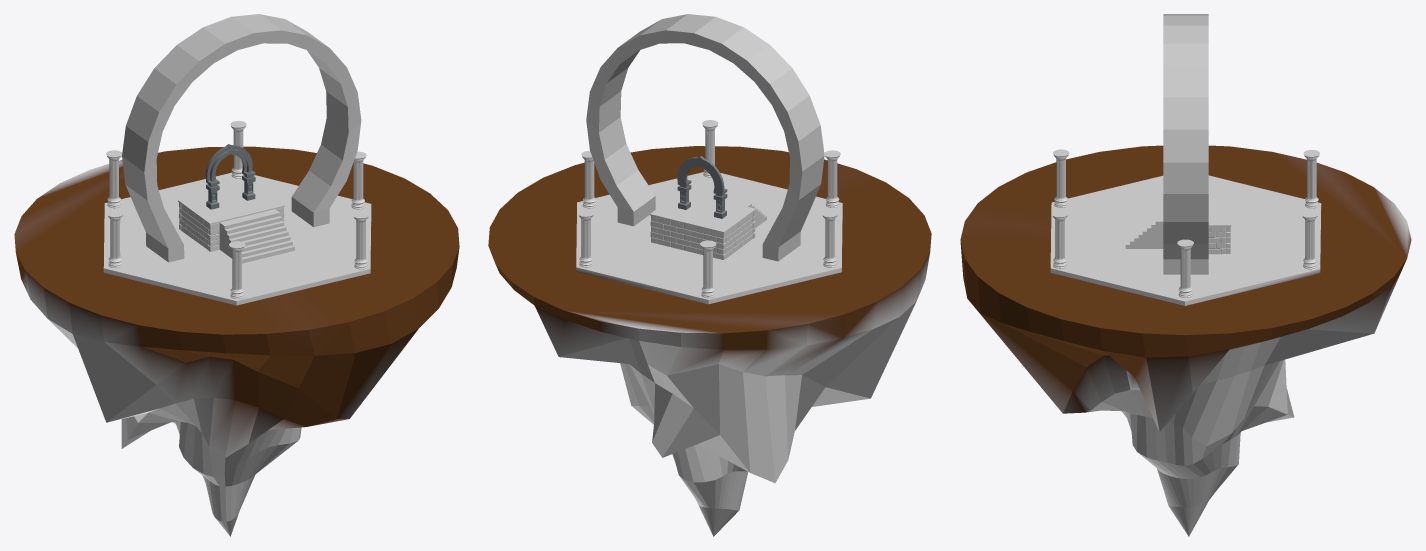
File: PI_Nekora_Portal Fim da Fase .fbx
3 views of the same model, side by side, from view 1: azimuth 30°, elevation 25°; view 2: azimuth 150°, elevation 25°; view 3: azimuth 270°, elevation 25° (orthographic).
Parts seen in each view (by area): view 1: Plataforma Flutuante, Arco, Hexágono, Altar do Portal, Escada, Portal, Pilar 03, Pilar 02, Pilar 05, Pilar 04, Pilar pai, Pilar 01; view 2: Plataforma Flutuante, Arco, Hexágono, Altar do Portal, Portal, Pilar 04, Pilar 03, Pilar 01, Pilar 02, Pilar pai; view 3: Plataforma Flutuante, Hexágono, Arco, Escada, Altar do Portal, Pilar pai, Pilar 02, Pilar 01, Pilar 05, Pilar 04.
Boxes of the visible parts, bbox=[...] form: Plataforma Flutuante: bbox=[14, 146, 459, 536]; Arco: bbox=[122, 14, 361, 262]; Hexágono: bbox=[103, 172, 371, 305]; Altar do Portal: bbox=[178, 183, 284, 251]; Escada: bbox=[219, 209, 294, 263]; Portal: bbox=[205, 144, 255, 209]; Pilar 03: bbox=[107, 210, 123, 267]; Pilar 02: bbox=[106, 150, 122, 208]; Pilar 05: bbox=[353, 211, 369, 269]; Pilar 04: bbox=[229, 241, 245, 298]; Pilar pai: bbox=[351, 151, 366, 209]; Pilar 01: bbox=[230, 121, 246, 178]; Plataforma Flutuante: bbox=[488, 146, 931, 536]; Arco: bbox=[586, 14, 824, 261]; Hexágono: bbox=[576, 172, 842, 304]; Altar do Portal: bbox=[650, 192, 755, 259]; Portal: bbox=[677, 156, 727, 218]; Pilar 04: bbox=[824, 150, 840, 207]; Pilar 03: bbox=[822, 210, 838, 267]; Pilar 01: bbox=[578, 210, 594, 267]; Pilar 02: bbox=[700, 240, 716, 298]; Pilar pai: bbox=[581, 151, 596, 208]; Plataforma Flutuante: bbox=[960, 145, 1411, 536]; Hexágono: bbox=[1050, 175, 1321, 305]; Arco: bbox=[1163, 14, 1208, 274]; Escada: bbox=[1125, 194, 1163, 248]; Altar do Portal: bbox=[1208, 188, 1231, 254]; Pilar pai: bbox=[1177, 239, 1193, 297]; Pilar 02: bbox=[1303, 150, 1319, 208]; Pilar 01: bbox=[1301, 210, 1318, 269]; Pilar 05: bbox=[1052, 210, 1068, 268]; Pilar 04: bbox=[1053, 149, 1069, 207].
Size of the model in its own units: 132 by 167 by 132.
